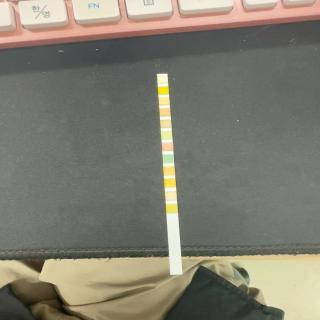mark: (163, 166, 176, 176), (162, 154, 175, 164), (164, 178, 176, 188), (162, 142, 174, 152), (166, 204, 178, 213), (165, 191, 177, 200), (158, 86, 170, 95), (158, 98, 170, 106), (161, 131, 172, 139), (160, 120, 171, 128), (157, 76, 168, 84), (160, 108, 170, 116)
